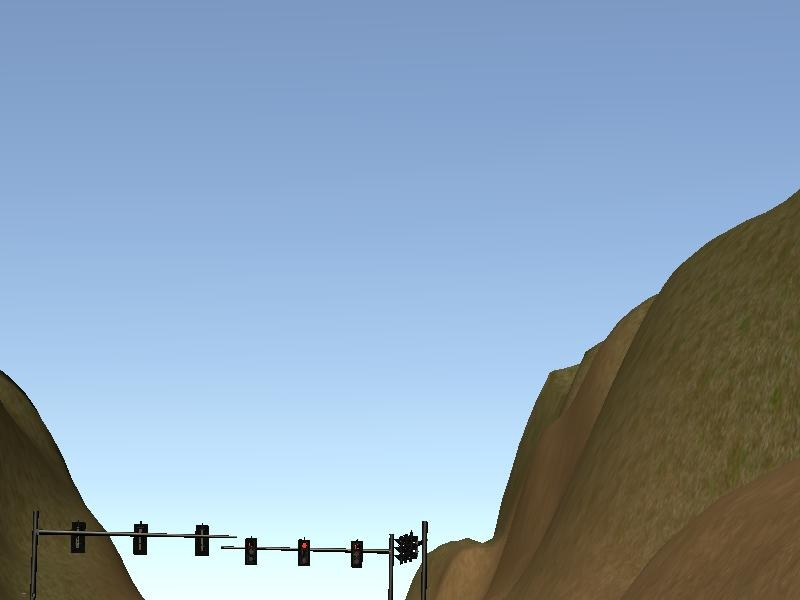traffic_light_red: (232, 536, 391, 568)
